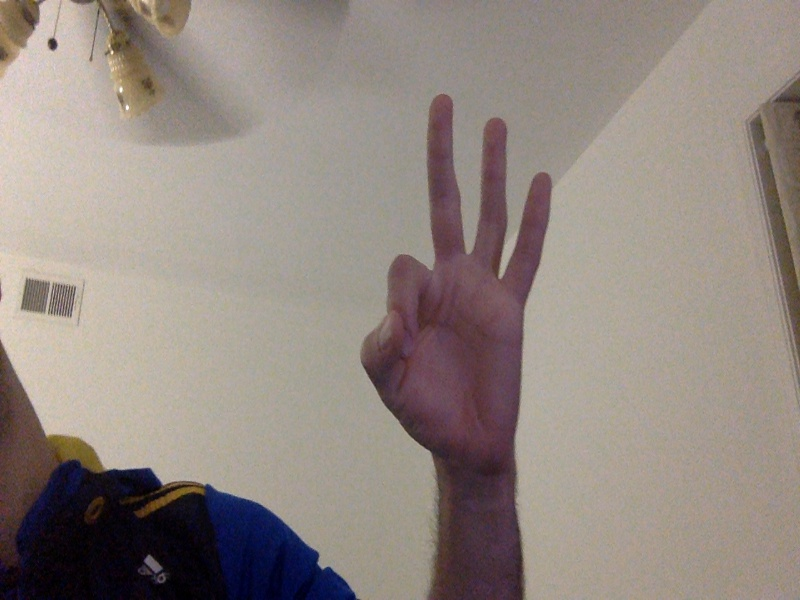3-hand: (360, 94, 553, 459)
